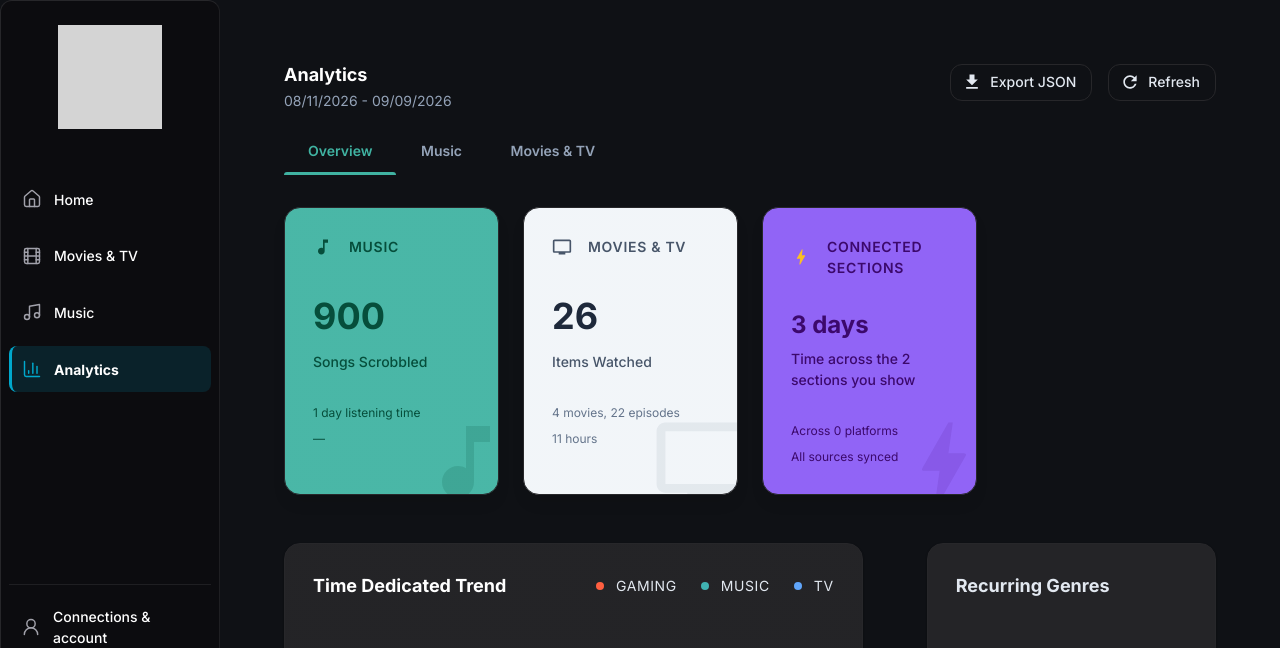
Test: analytics tabs stay keyed when a section is hidden › removes the hidden pillar's tab and keeps the others correct
This screenshot has width=1280, height=648.
Expected: the tab "Overview" is shown, left=284, top=127, right=396, bottom=175
Click the tab "Music" at (442, 151), box left=396, top=127, right=486, bottom=175
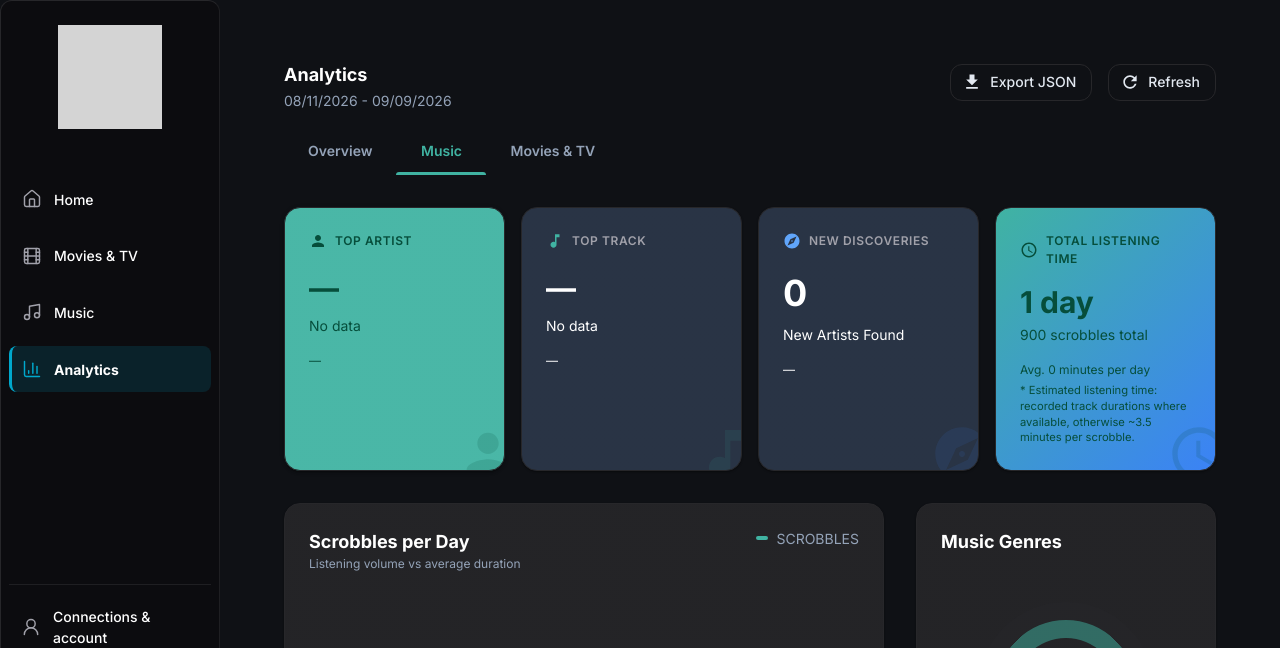
Result: the text "Top Artist" is shown at left=335, top=232, right=412, bottom=250
